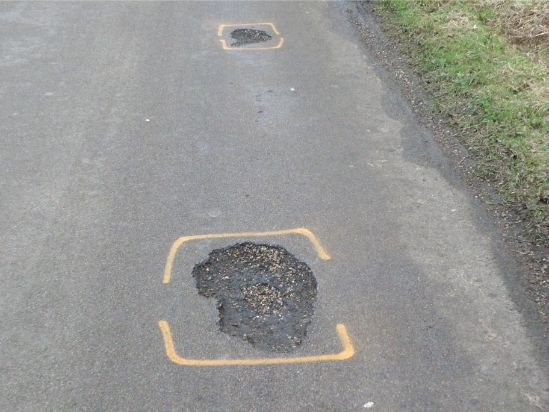pothole: (189, 241, 321, 351), (227, 27, 272, 48)
